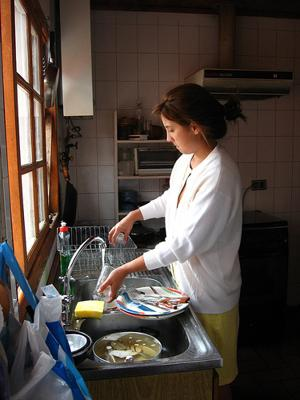person: (100, 81, 243, 400)
